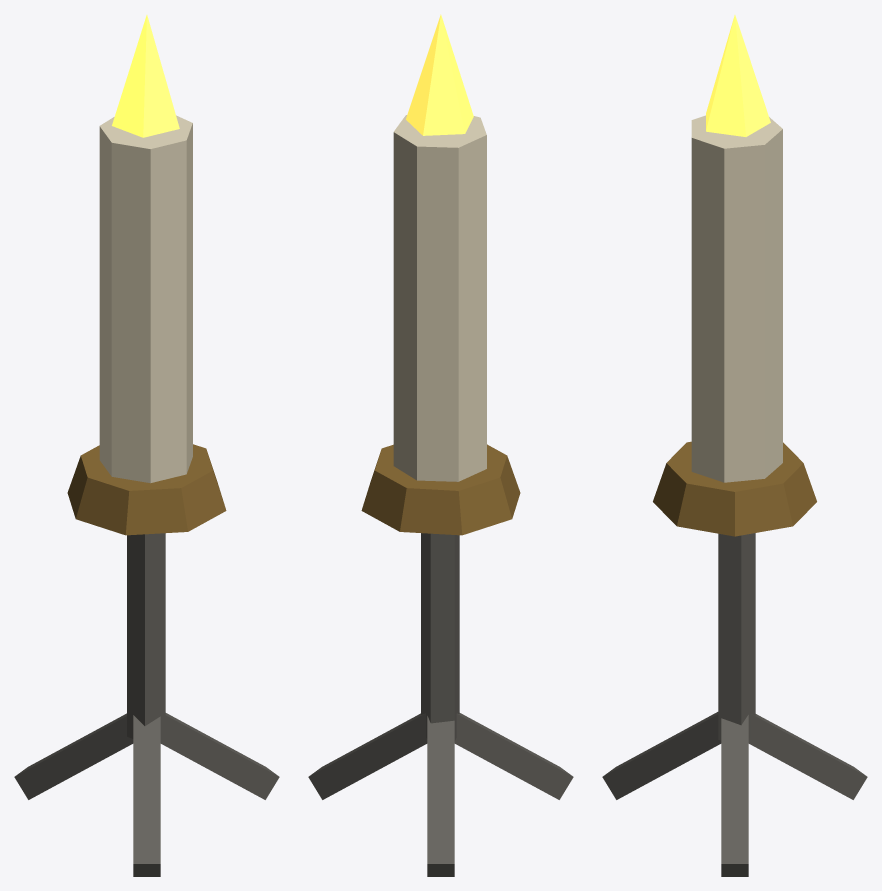
The model's file is candle_3.glb.
3 views of the same model, side by side, from view 1: azimuth 30°, elevation 25°; view 2: azimuth 150°, elevation 25°; view 3: azimuth 270°, elevation 25° (orthographic).
Visible parts, largest first — view 1: Candle_3; view 2: Candle_3; view 3: Candle_3.
Boxes of the visible parts, bbox=[...] form: Candle_3: bbox=[14, 15, 279, 876]; Candle_3: bbox=[308, 14, 573, 876]; Candle_3: bbox=[602, 15, 867, 876].
Size of the model in its own units: 0.1341 by 0.5204 by 0.1549.
